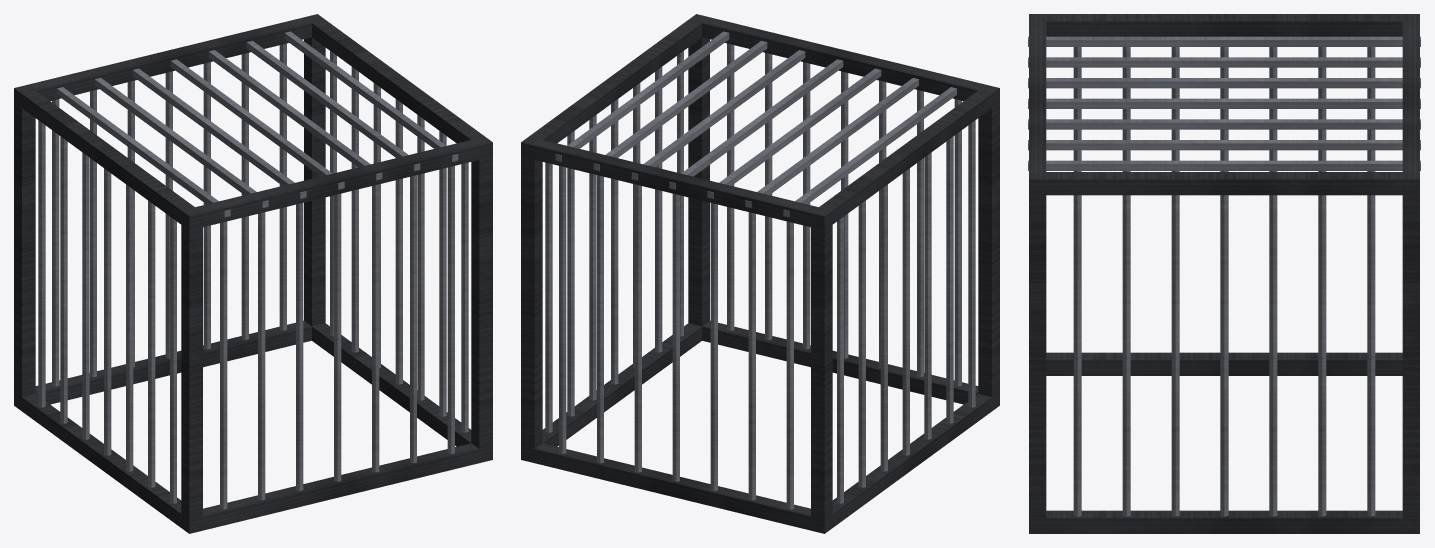
The model's file is Cage.fbx.
3 renders of one model, left to right at view 1: azimuth 30°, elevation 25°; view 2: azimuth 150°, elevation 25°; view 3: azimuth 270°, elevation 25°, orthographic. The views are drawn at different scales.
Parts seen in each view (by area): view 1: Cage; view 2: Cage; view 3: Cage.
Boxes of the visible parts, x1=… form: Cage: x1=14, y1=14, x2=492, y2=533; Cage: x1=521, y1=14, x2=999, y2=533; Cage: x1=1028, y1=14, x2=1420, y2=533.
Size of the model in its own units: 1 by 1 by 1.
2 materials, 2 textured.
